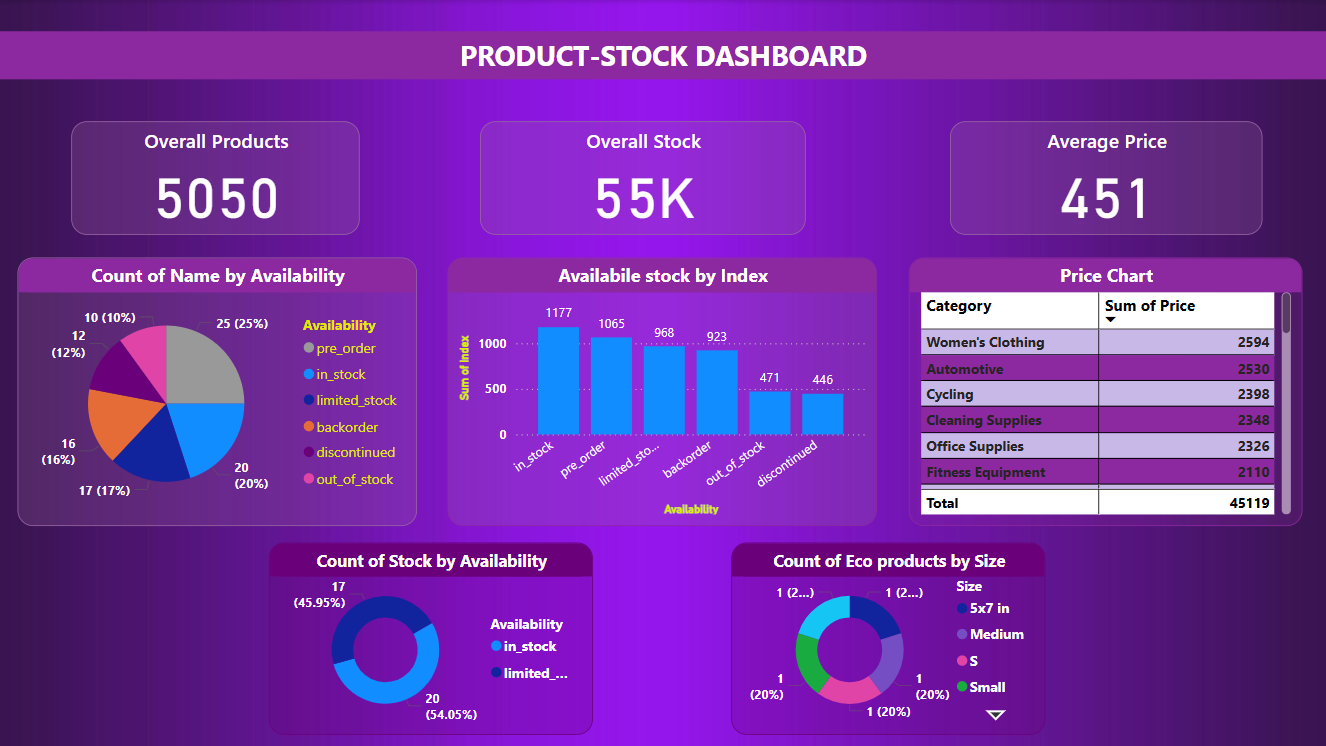

What the dashboard file says about the page in this screenshot:
{"tool":"powerbi","page":{"name":"Page 1","canvas":[1280,720],"ordinal":0},"visuals":[{"type":"card","title":"Overall Products","fields":{"Values":["Sum(products-100.Index)"]},"box":[68.6,116.6,278.6,109.8],"z":0},{"type":"card","title":"Overall Stock","fields":{"Values":["Sum(products-100.Stock)"]},"box":[463.8,116.6,314.2,109.8],"z":1000},{"type":"card","title":"Average Price","fields":{"Values":["Avg(products-100.Price)"]},"box":[916.6,116.6,301.9,109.8],"z":2000},{"type":"pieChart","fields":{"Category":["products-100.Availability"],"Y":["CountNonNull(products-100.Name)"]},"box":[16.5,248.4,385.6,259.3],"z":3000},{"type":"columnChart","title":"Availabile stock by Index","fields":{"Category":["products-100.Availability"],"Y":["Sum(products-100.Index)"]},"box":[432.2,248.4,414.4,259.3],"z":4000},{"type":"tableEx","title":"Price Chart","fields":{"Values":["products-100.Category","Sum(products-100.Price)"]},"box":[876.8,248.4,380.1,259.3],"z":5000},{"type":"donutChart","title":"Count of Stock by Availability","fields":{"Category":["products-100.Availability"],"Y":["CountNonNull(products-100.Availability)"]},"box":[259.3,524.2,312.9,185.2],"z":6000},{"type":"donutChart","title":"Count of Eco products by Size","fields":{"Category":["products-100.Size"],"Y":["CountNonNull(products-100.Name)"]},"box":[705.3,524.2,303.3,185.2],"z":7000},{"type":"textbox","box":[0,30.2,1280.3,46.7],"z":8000}]}

Visuals, with their boxes in screenshot pixels (x1, y1, x2, y2), scaled from the page's 1280x720 canvas onto the 1326x746 screenshot:
"Overall Products" card: 71, 121, 360, 235
"Overall Stock" card: 480, 121, 806, 235
"Average Price" card: 950, 121, 1262, 235
pieChart - products-100.Availability x CountNonNull(products-100.Name): 17, 257, 417, 526
"Availabile stock by Index" columnChart: 448, 257, 877, 526
"Price Chart" tableEx: 908, 257, 1302, 526
"Count of Stock by Availability" donutChart: 269, 543, 593, 735
"Count of Eco products by Size" donutChart: 731, 543, 1045, 735
textbox: 0, 31, 1325, 80
